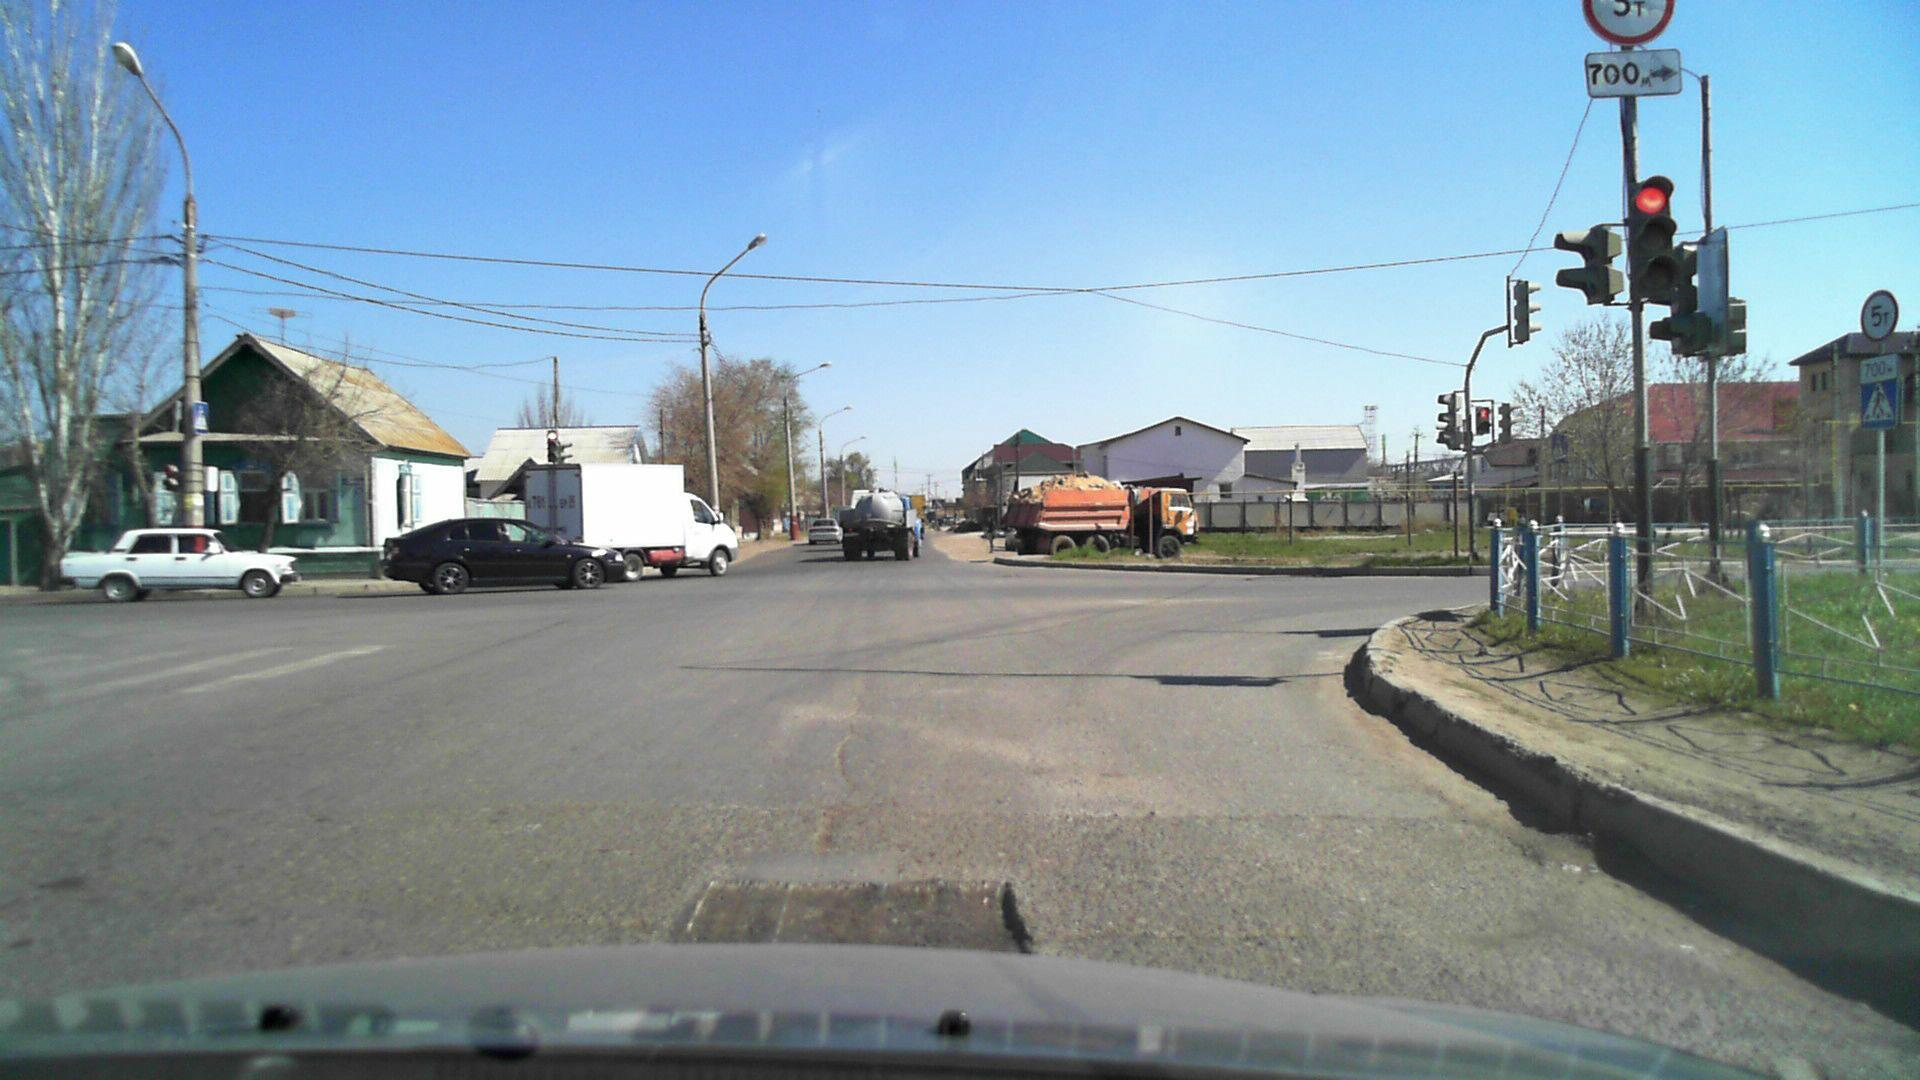3_11: (1582, 0, 1673, 44), (1858, 287, 1898, 345)
5_19_1: (1858, 381, 1899, 427), (191, 402, 211, 431)
5_19_2: (1549, 431, 1568, 458)
8_1_1: (1858, 356, 1900, 380)
8_1_4: (1584, 47, 1691, 98)
